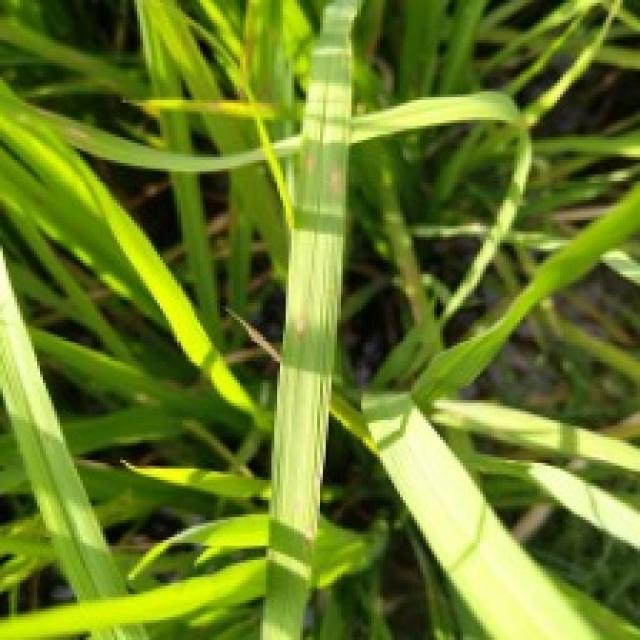Rice___Brown_Spot: (263, 0, 369, 637)
